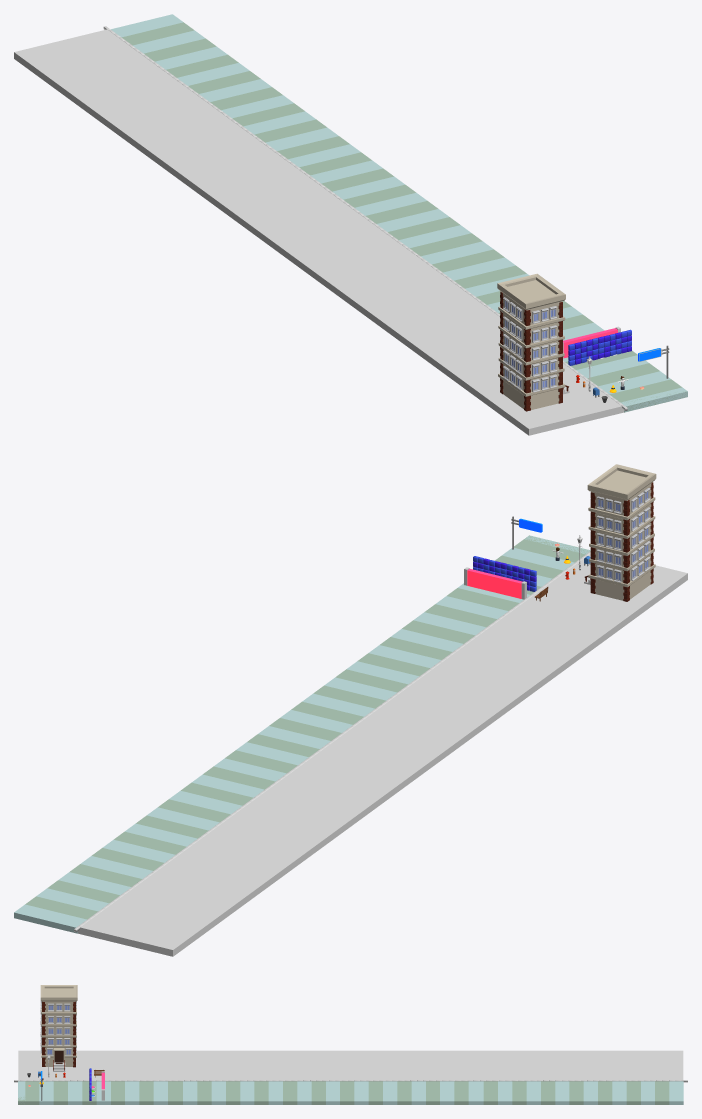
The model's file is DonutRun 1.fbx.
3 views of the same model, one above another, from view 1: azimuth 30°, elevation 25°; view 2: azimuth 150°, elevation 25°; view 3: azimuth 270°, elevation 25° (orthographic). The views are drawn at different scales.
Parts seen in each view (by area): view 1: Zemin, 2xGameArea, 2xGameAreaBoşluklu, Bina, 2xGameAreaBoşluklu2, 2xGameAreaBoşluklu3, Kaldırım; view 2: Zemin, 2xGameArea, 2xGameAreaBoşluklu, 2xGameAreaBoşluklu2, Bina, 2xGameAreaBoşluklu3, Kaldırım, Duvar; view 3: Zemin, 2xGameArea, 2xGameAreaBoşluklu2, Bina, Kaldırım, 2xGameAreaBoşluklu.
Boxes of the visible parts, left/top/right/bottom form: Zemin: left=14, top=29, right=623, bottom=435; 2xGameArea: left=112, top=14, right=687, bottom=412; 2xGameAreaBoşluklu: left=113, top=14, right=679, bottom=400; Bina: left=497, top=273, right=569, bottom=411; 2xGameAreaBoşluklu2: left=111, top=15, right=687, bottom=412; 2xGameAreaBoşluklu3: left=113, top=15, right=670, bottom=411; Kaldırım: left=103, top=26, right=627, bottom=410; Zemin: left=78, top=554, right=687, bottom=956; 2xGameArea: left=14, top=535, right=590, bottom=933; 2xGameAreaBoşluklu: left=14, top=535, right=589, bottom=929; 2xGameAreaBoşluklu2: left=14, top=535, right=589, bottom=933; Bina: left=584, top=464, right=656, bottom=601; 2xGameAreaBoşluklu3: left=18, top=540, right=582, bottom=926; Kaldırım: left=74, top=551, right=590, bottom=932; Duvar: left=467, top=568, right=522, bottom=598; Zemin: left=18, top=1050, right=683, bottom=1079; 2xGameArea: left=18, top=1081, right=683, bottom=1104; 2xGameAreaBoşluklu2: left=18, top=1092, right=683, bottom=1104; Bina: left=40, top=985, right=77, bottom=1071; Kaldırım: left=14, top=1080, right=687, bottom=1082; 2xGameAreaBoşluklu: left=18, top=1088, right=679, bottom=1104.
Size of the model in its own units: 2878 by 1995 by 16370.
